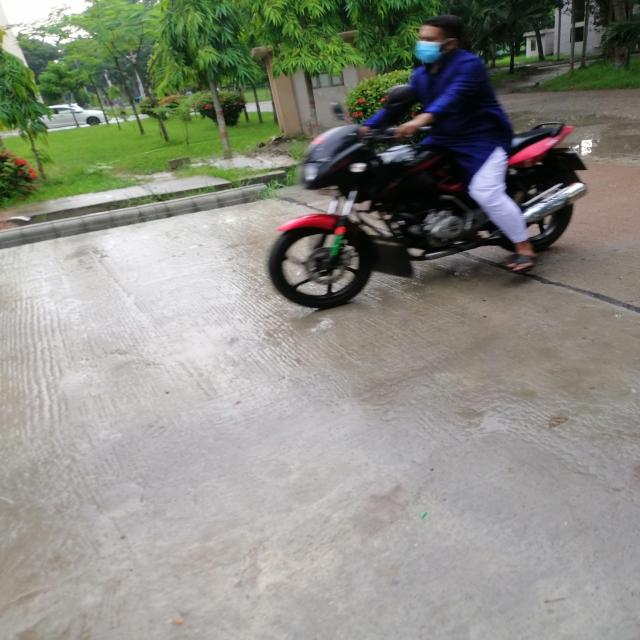Motorbike: (263, 99, 589, 315)
